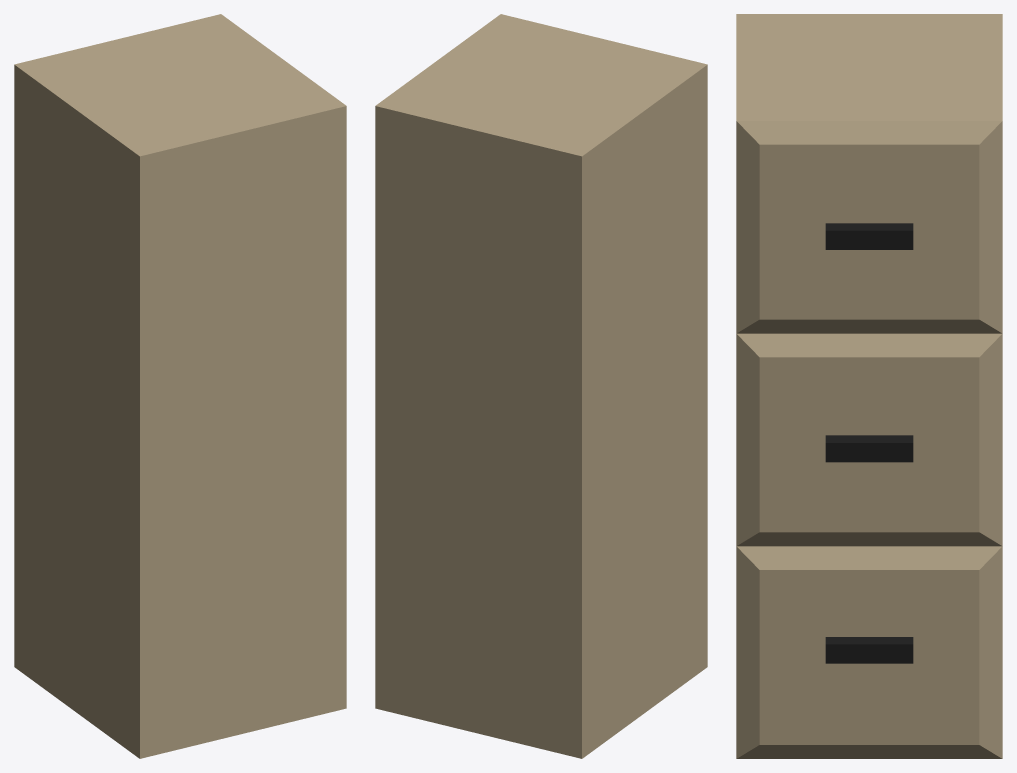
The model's file is Gaveteiro.fbx.
3 renders of one model, left to right at view 1: azimuth 30°, elevation 25°; view 2: azimuth 150°, elevation 25°; view 3: azimuth 270°, elevation 25°, orthographic. The views are drawn at different scales.
Parts seen in each view (by area): view 1: Cubo.348; view 2: Cubo.348; view 3: Cubo.348.
Boxes of the visible parts, <box> form: Cubo.348: <box>14,14,346,758</box>; Cubo.348: <box>375,14,707,758</box>; Cubo.348: <box>736,14,1002,758</box>.
Bounding box in the file's own units: 173 × 431 × 163.
